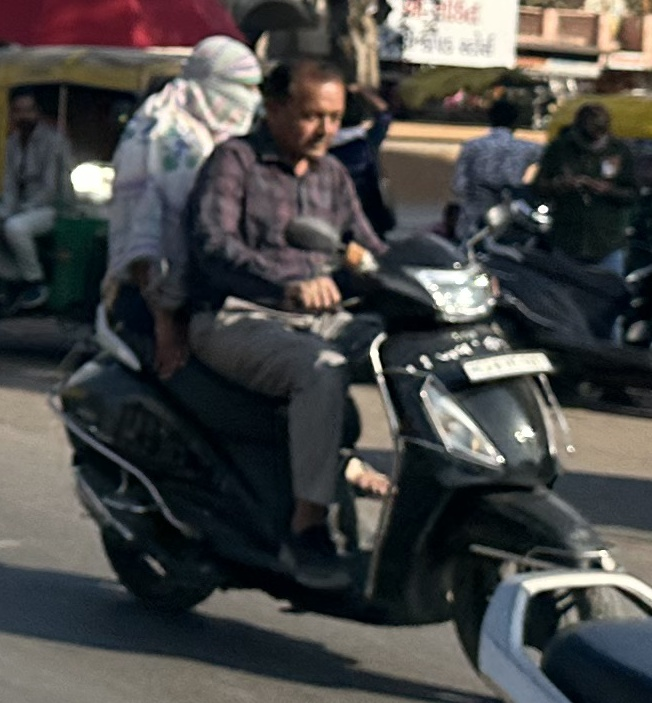BikeWithRider: (43, 25, 625, 679)
NoHelmet: (251, 52, 352, 164), (165, 32, 267, 135)
